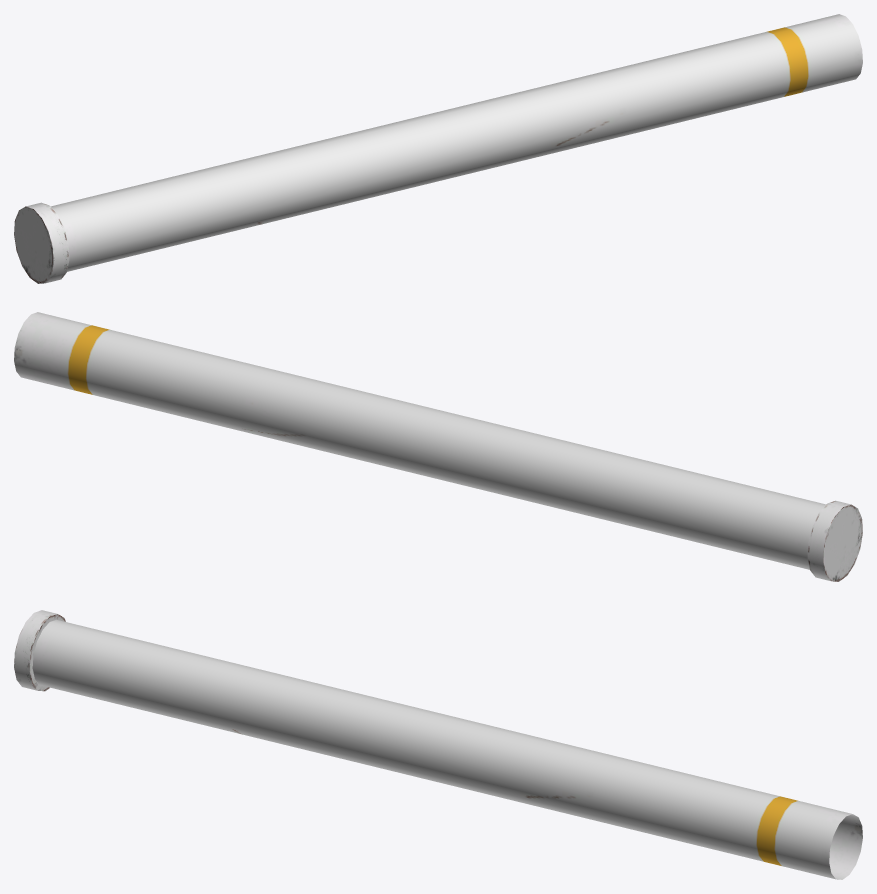
The model's file is WhitePipe_Tile.dae.
The picture shows the model from 3 angles, top to bottom: view 1: azimuth 30°, elevation 25°; view 2: azimuth 150°, elevation 25°; view 3: azimuth 330°, elevation 25°; orthographic projection.
Visible parts, largest first — view 1: polySurface406; view 2: polySurface406; view 3: polySurface406.
Boxes of the visible parts, box(x1,y1,x2,y2) form: polySurface406: box(14, 14, 862, 283); polySurface406: box(14, 312, 862, 581); polySurface406: box(14, 610, 862, 879).
Size of the model in its own units: 5 by 0.4216 by 0.424.
1 material, 1 textured.
